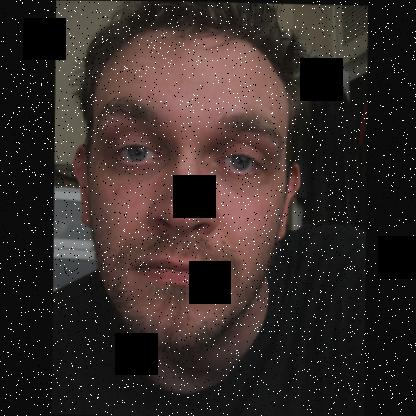Male: (72, 24, 302, 347)
